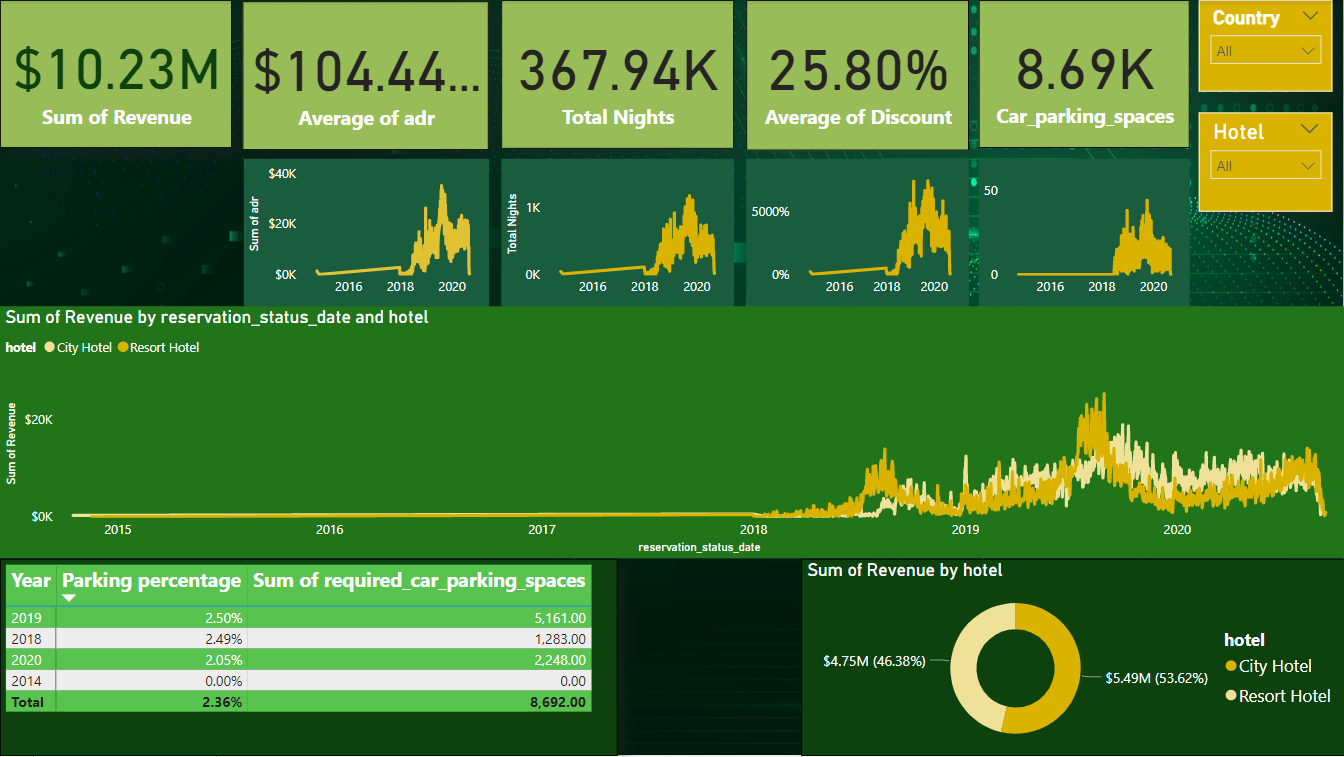

The dashboard page shown, as its layout file describes it:
{"tool":"powerbi","page":{"name":"Hotel Data Analysis","canvas":[1280,720],"ordinal":0},"visuals":[{"type":"card","fields":{"Values":["Sum(Query1.Revenue)"]},"box":[0,0,220.7,141.1],"z":0},{"type":"card","fields":{"Values":["Avg(Query1.adr)"]},"box":[230.9,1.2,234.4,141.6],"z":1000},{"type":"card","fields":{"Values":["Query1.Total Nights"]},"box":[477.2,0,221.4,141.6],"z":2000},{"type":"card","fields":{"Values":["Avg(Query1.Discount)"]},"box":[710.5,0,211.8,142.8],"z":3000},{"type":"card","fields":{"Values":["Sum(Query1.required_car_parking_spaces)"]},"box":[931.8,0,201.1,140.4],"z":4000},{"type":"slicer","fields":{"Values":["Query1.country"]},"box":[1141.3,0,127.3,86.9],"z":5000},{"type":"slicer","fields":{"Values":["Query1.hotel"]},"box":[1141.3,107.1,127.3,94],"z":6000},{"type":"lineChart","fields":{"Category":["Query1.reservation_status_date","Query1.hotel"],"Y":["Sum(Query1.adr)"]},"box":[232.1,151.1,233.3,140.4],"z":7000},{"type":"lineChart","fields":{"Category":["Query1.reservation_status_date","Query1.hotel"],"Y":["Query1.Total Nights"]},"box":[477.2,151.1,221.4,140.4],"z":8000},{"type":"lineChart","fields":{"Category":["Query1.reservation_status_date","Query1.hotel"],"Y":["Sum(Query1.Discount)"]},"box":[710.5,151.1,211.8,140.4],"z":9000},{"type":"lineChart","fields":{"Category":["Query1.reservation_status_date","Query1.hotel"],"Y":["Sum(Query1.required_car_parking_spaces)"]},"box":[931.8,151.1,201.1,140.4],"z":10000},{"type":"lineChart","fields":{"Category":["Query1.reservation_status_date","Query1.hotel"],"Y":["Sum(Query1.Revenue)"],"Series":["Query1.hotel"]},"box":[0,291.6,1280.5,240.4],"z":11000},{"type":"pivotTable","fields":{"Rows":["Query1.reservation_status_date.Variation.Date Hierarchy.Year"],"Values":["Query1.Parking percentage","Sum(Query1.required_car_parking_spaces)"]},"box":[0,532,587.9,188],"z":12000},{"type":"donutChart","fields":{"Category":["Query1.hotel"],"Y":["Sum(Query1.Revenue)"]},"box":[762.8,532,517.7,188],"z":13000}]}

Visuals, with their boxes in screenshot pixels (x1, y1, x2, y2), scaled from the page's 1280x720 canvas onto the 1344x757 screenshot:
card - Sum(Query1.Revenue): select_region(0, 0, 232, 148)
card - Avg(Query1.adr): select_region(242, 1, 489, 150)
card - Query1.Total Nights: select_region(501, 0, 734, 149)
card - Avg(Query1.Discount): select_region(746, 0, 968, 150)
card - Sum(Query1.required_car_parking_spaces): select_region(978, 0, 1190, 148)
slicer - Query1.country: select_region(1198, 0, 1332, 91)
slicer - Query1.hotel: select_region(1198, 113, 1332, 211)
lineChart - Query1.reservation_status_date x Query1.hotel: select_region(244, 159, 489, 306)
lineChart - Query1.reservation_status_date x Query1.hotel: select_region(501, 159, 734, 306)
lineChart - Query1.reservation_status_date x Query1.hotel: select_region(746, 159, 968, 306)
lineChart - Query1.reservation_status_date x Query1.hotel: select_region(978, 159, 1190, 306)
lineChart - Query1.reservation_status_date x Query1.hotel: select_region(0, 307, 1343, 559)
pivotTable - Query1.reservation_status_date.Variation.Date Hierarchy.Year x Query1.Parking percentage: select_region(0, 559, 617, 756)
donutChart - Query1.hotel x Sum(Query1.Revenue): select_region(801, 559, 1343, 756)
